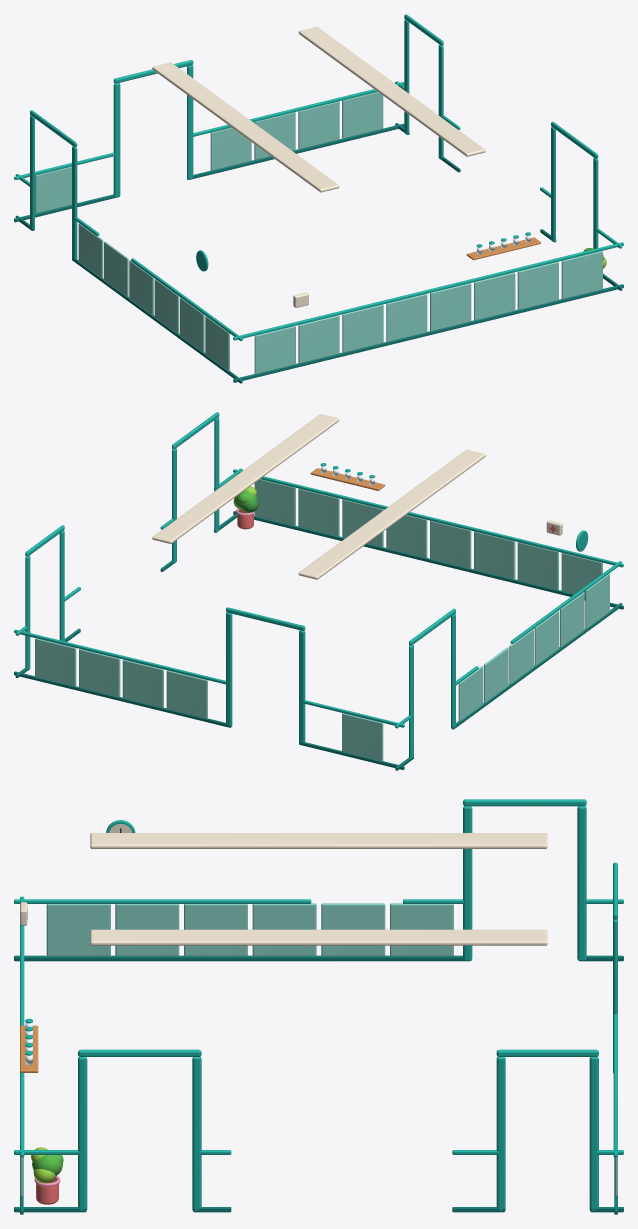
File: AnnexDressing.fbx
3 renders of one model, top to bottom at view 1: azimuth 30°, elevation 25°; view 2: azimuth 150°, elevation 25°; view 3: azimuth 270°, elevation 25°, orthographic. The views are drawn at different scales.
Parts seen in each view (by area): view 1: AnnexDressing mesh; view 2: AnnexDressing mesh; view 3: AnnexDressing mesh.
Part boxes in pixels (x1,y1,x2,y2): AnnexDressing mesh: [14, 14, 623, 383]; AnnexDressing mesh: [14, 412, 623, 770]; AnnexDressing mesh: [14, 799, 623, 1214].
Bounding box in the file's own units: 10 × 3.6 × 10.
